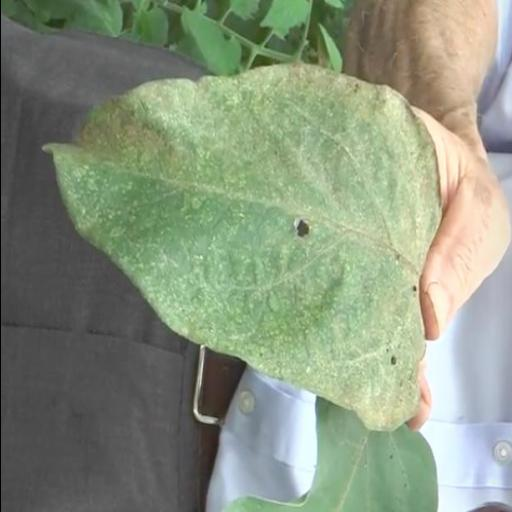disease_tomato: (39, 62, 441, 435)
